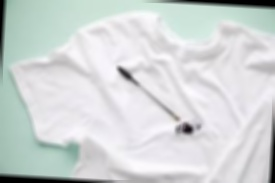ink: (180, 124, 193, 132)
